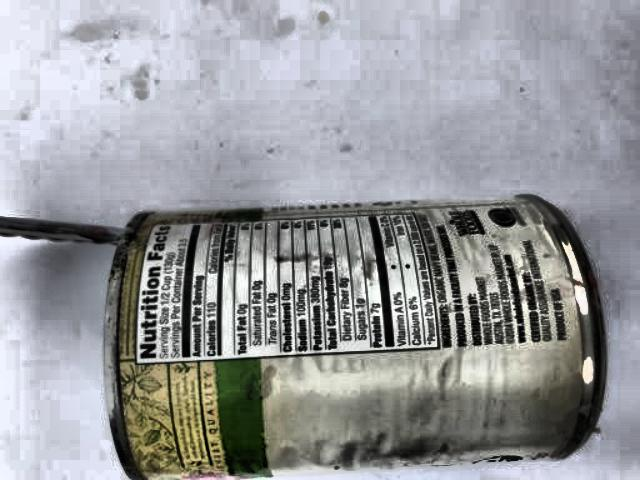Almennt: (0, 168, 631, 480)
